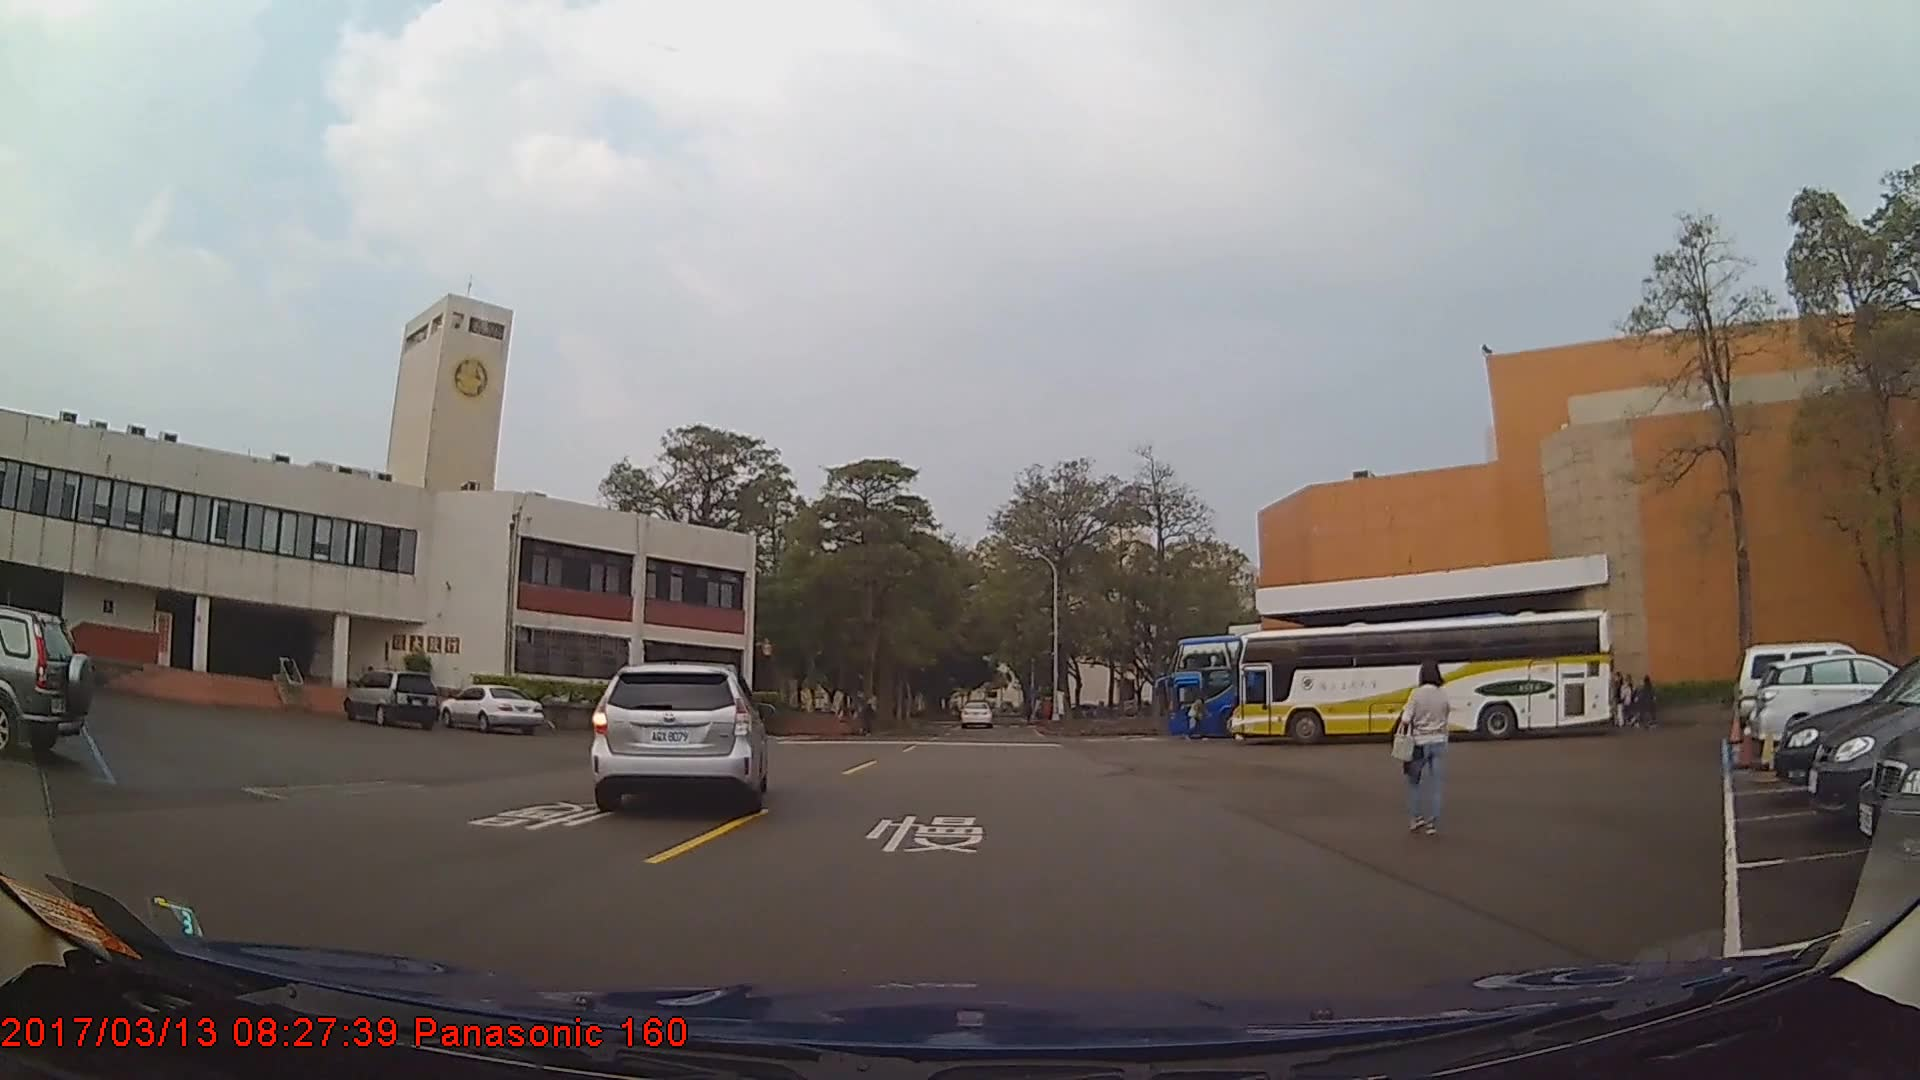pedestrian: (1387, 655, 1452, 840), (1630, 667, 1663, 731)
vehicle: (1227, 608, 1615, 748), (1163, 633, 1484, 738), (591, 657, 769, 810), (1805, 658, 1920, 844), (1749, 652, 1917, 755), (0, 602, 92, 760), (1732, 641, 1859, 730), (340, 668, 440, 726), (436, 681, 543, 732), (960, 700, 993, 729)
